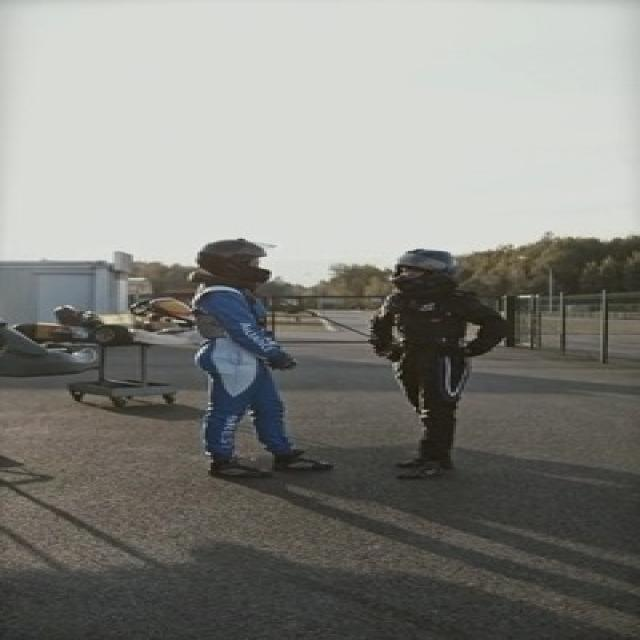Helmet_Wearer: (186, 238, 288, 284), (384, 248, 474, 292)
Jacket_Wearer: (371, 291, 510, 362)
Person: (177, 237, 341, 475), (373, 246, 531, 482)
